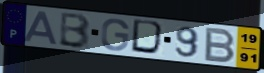9: (174, 26, 201, 60)
A: (22, 9, 60, 46)
B: (57, 11, 92, 50), (202, 26, 237, 64)
D: (130, 18, 168, 57)
G: (99, 17, 131, 53)
